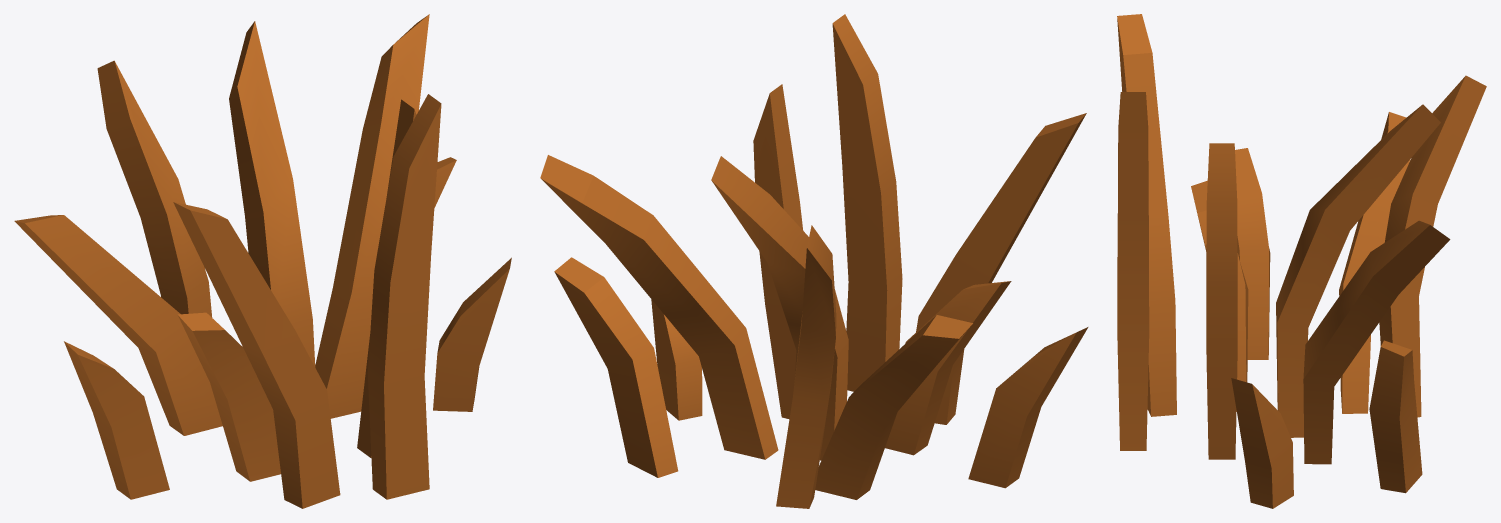
The model's file is Grass 1.glb.
The picture shows the model from 3 angles, left to right: view 1: azimuth 30°, elevation 25°; view 2: azimuth 150°, elevation 25°; view 3: azimuth 270°, elevation 25°; orthographic projection. The views are drawn at different scales.
Parts seen in each view (by area): view 1: Grass_1; view 2: Grass_1; view 3: Grass_1.
Boxes of the visible parts, <box> form: Grass_1: <box>14,14,511,508</box>; Grass_1: <box>540,14,1088,508</box>; Grass_1: <box>1117,14,1486,508</box>.
Bounding box in the file's own units: 1.27 × 0.9905 × 0.9104.
1 material, 1 textured.
